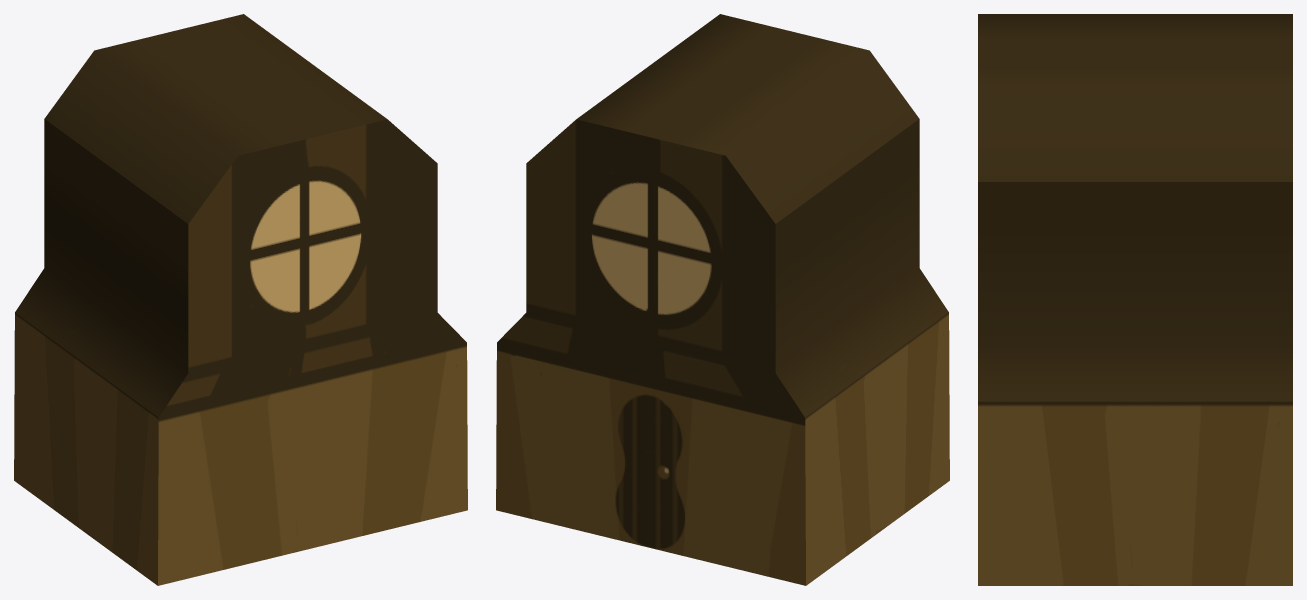
File: house3 (1).fbx
3 renders of one model, left to right at view 1: azimuth 30°, elevation 25°; view 2: azimuth 150°, elevation 25°; view 3: azimuth 270°, elevation 25°, orthographic. The views are drawn at different scales.
Visible parts, largest first — view 1: house3; view 2: house3; view 3: house3.
Boxes of the visible parts, left/top/right/bottom form: house3: left=14, top=14, right=467, bottom=585; house3: left=496, top=14, right=949, bottom=585; house3: left=978, top=14, right=1292, bottom=585.
Size of the model in its own units: 0.029 by 0.0367 by 0.0233.
